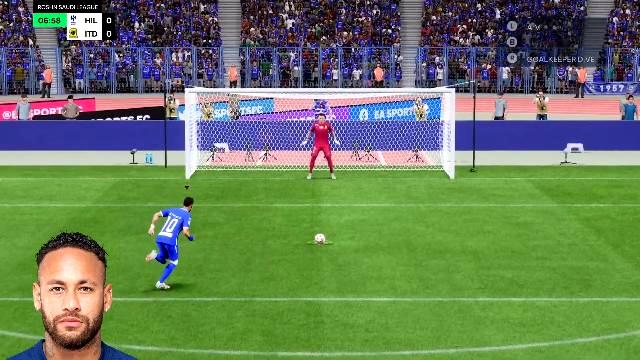bottom-left: (192, 141, 280, 181)
bottom-right: (357, 141, 447, 181)
center-down: (282, 140, 356, 180)
center-up: (281, 96, 355, 138)
circle: (308, 241, 332, 244)
football: (314, 234, 326, 243)
goalkeeper: (302, 122, 342, 182)
player: (145, 195, 201, 293)
top-left: (194, 95, 278, 139)
top-right: (357, 97, 451, 139)
